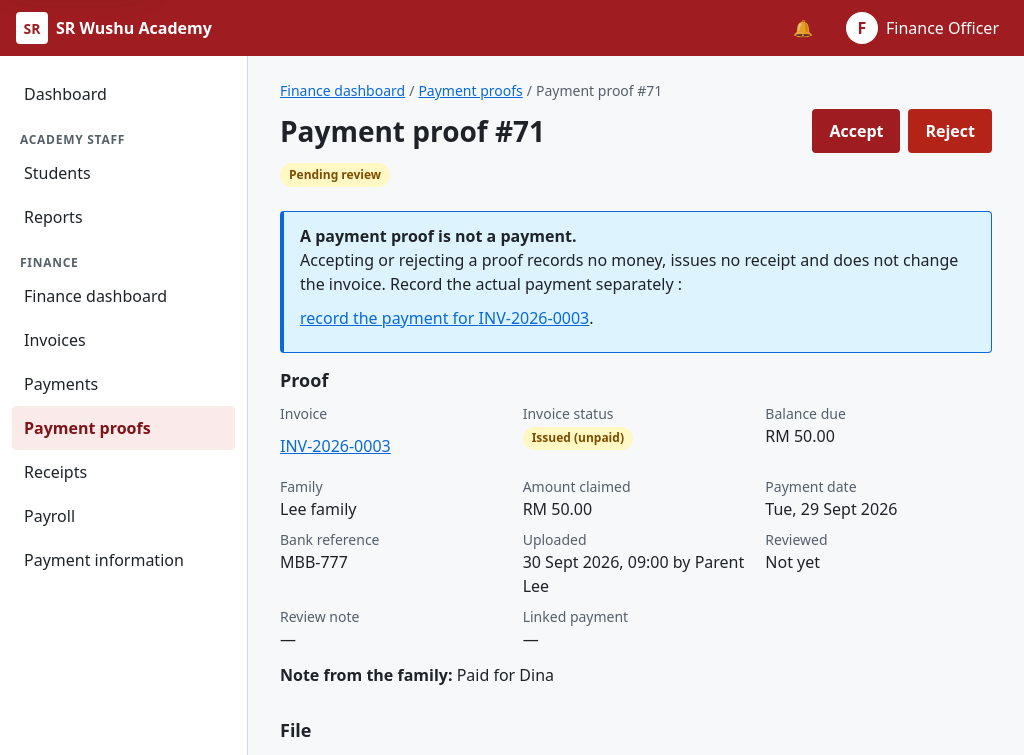
it: payment proofs › rejecting requires a reason (validated at the field) and sends it
Click the button "Reject" at {"x": 950, "y": 131}, box [908,109,992,153]
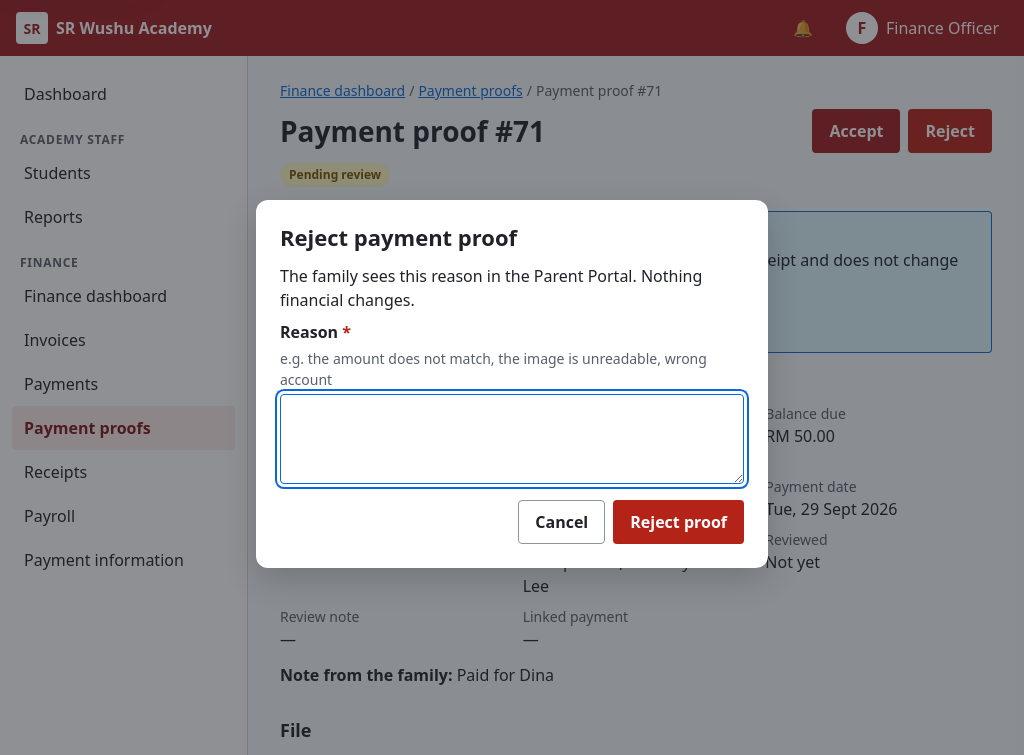
Click the button "Reject proof" at {"x": 679, "y": 522}, box [613,500,744,544]
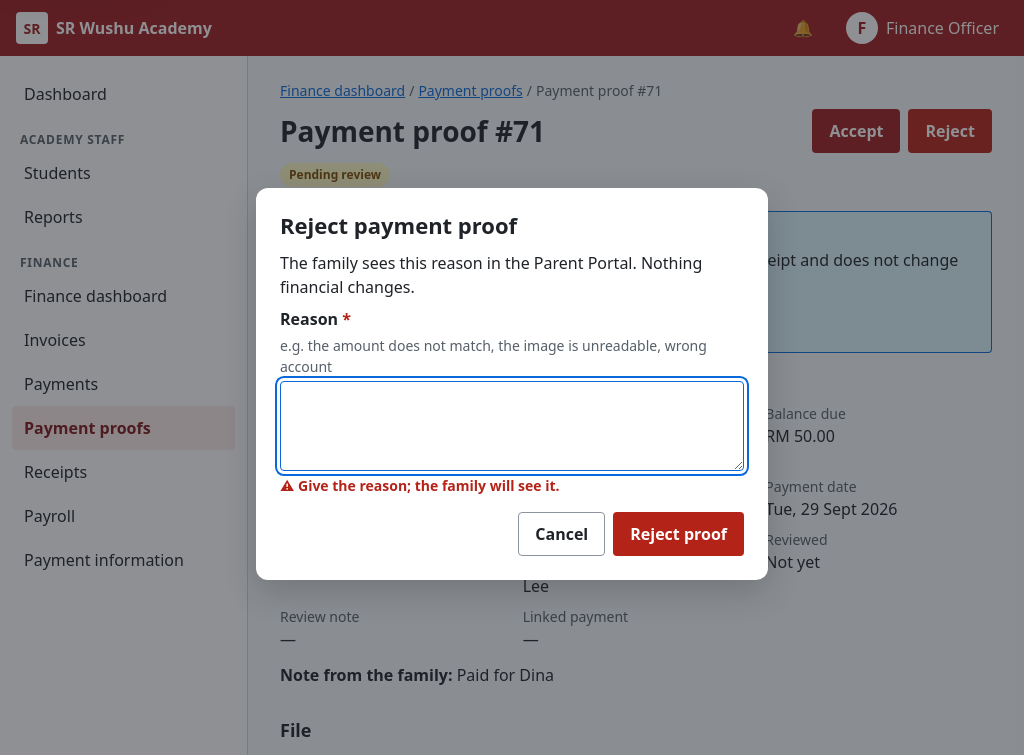
Expected: the text box labelled "Reason *" is marked as invalid
Type "Amount does not match" into the text box labelled "Reason *" at {"x": 512, "y": 426}, box [280,381,744,471]
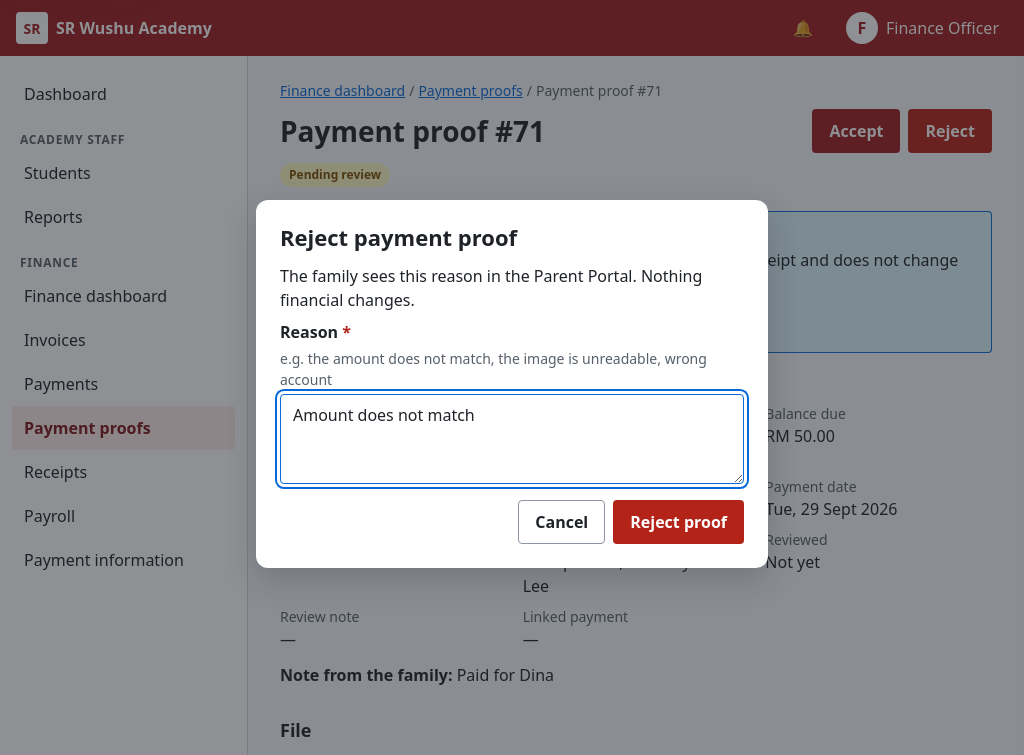
Click the button "Reject proof" at {"x": 679, "y": 522}, box [613,500,744,544]
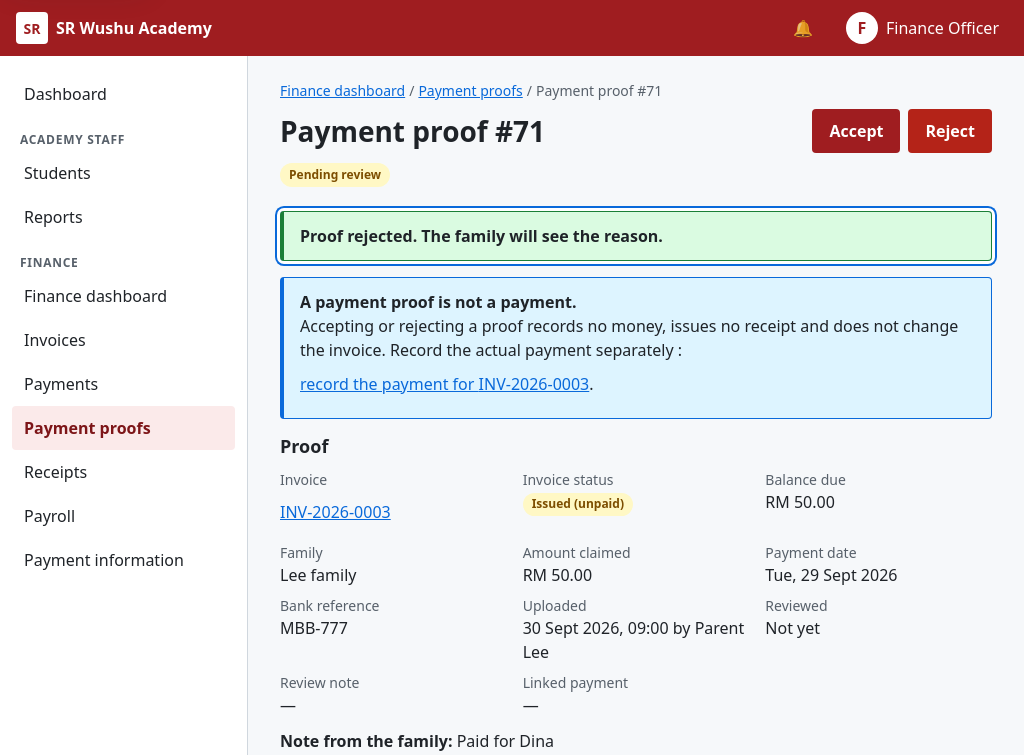
Expected: the text "Proof rejected. The family will see the reason." is shown, [300,225,663,247]
